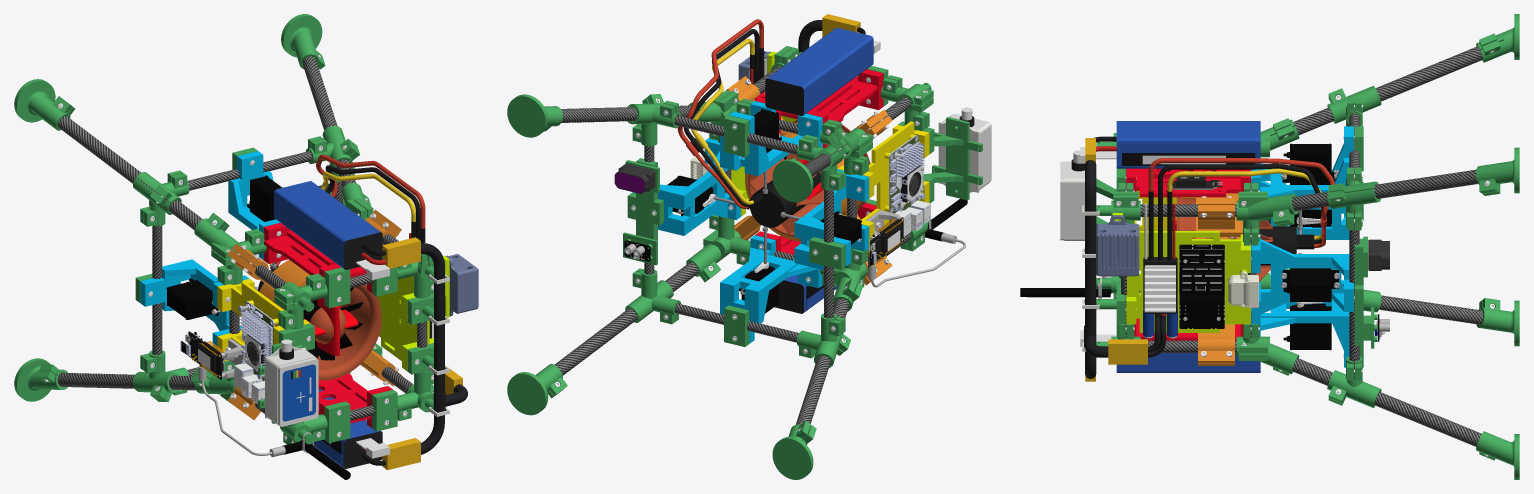
The model's file is drone_visual.glb.
3 renders of one model, left to right at view 1: azimuth 30°, elevation 25°; view 2: azimuth 150°, elevation 25°; view 3: azimuth 270°, elevation 25°, orthographic. The views are drawn at different scales.
Parts seen in each view (by area): view 1: Body, EDFRotor; view 2: Body; view 3: Body.
Part boxes in pixels (x1,y1,x2,y2): Body: (14,14,478,479); EDFRotor: (303,287,362,360); Body: (507,14,991,479); Body: (1020,14,1519,479).
Bounding box in the file's own units: 0.3473 × 0.3473 × 0.4789.
109 materials, 1 textured.
